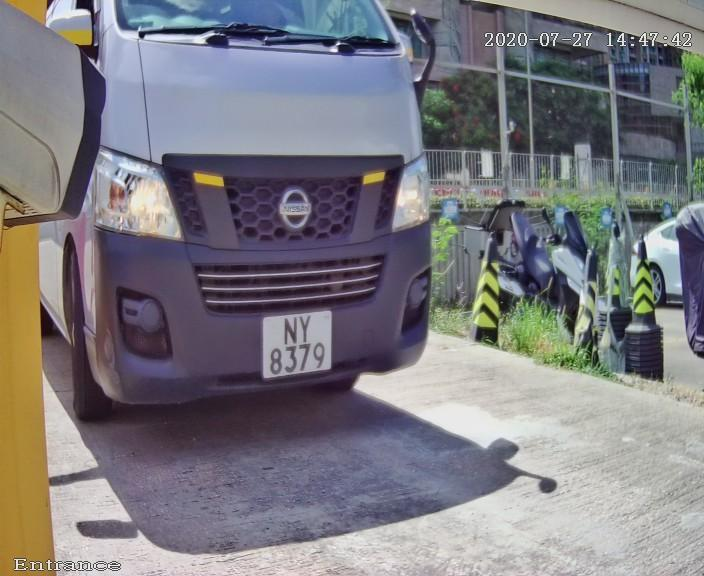privatecar: (29, 24, 491, 438)
